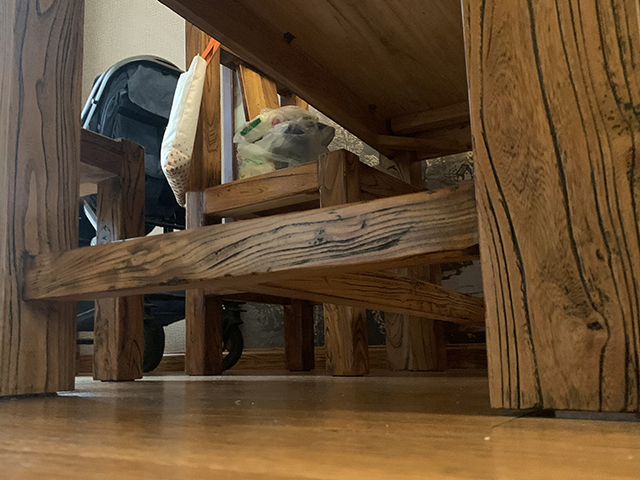stool: (182, 18, 448, 379)
